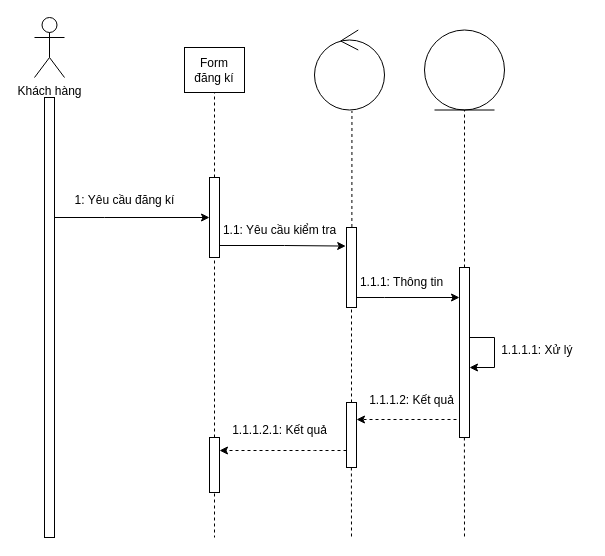
This 605x556 diagram has some shape labels left out. Here are the shapes that lost their labels. From the top down, the centre of each, then its label:
At point (349, 69): "Data Control".
At point (464, 69): "Database user".
